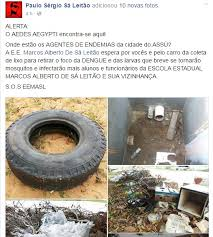tire: (5, 109, 105, 191)
